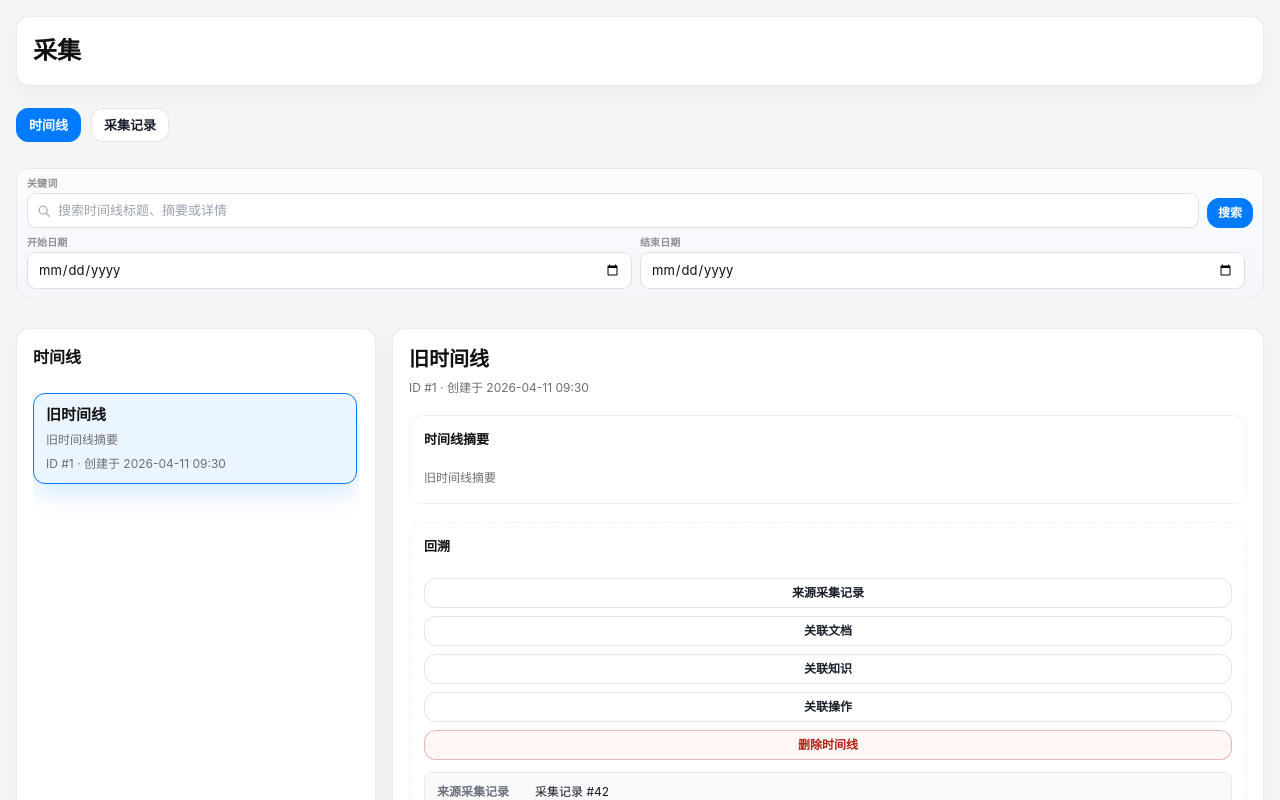
Test: 显式搜索交互 › RepositoryPanel 时间线搜索无结果后不保留旧详情
Check: the 2nd text "旧时间线" is shown, box [46, 405, 106, 424]
Type "不存在" into the field with placeholder "搜索时间线标题、摘要或详情".
click(613, 210); type("不存在")  # box [27, 193, 1199, 228]
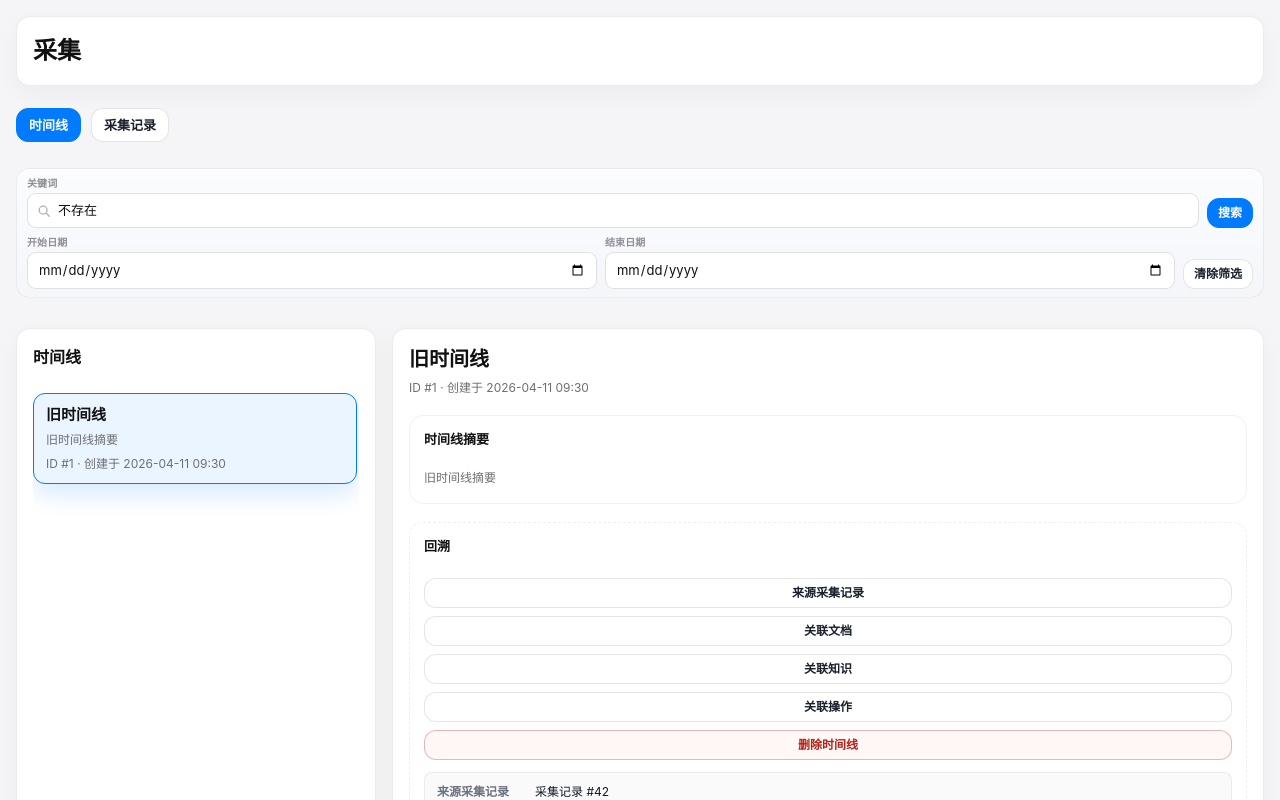
Click the button "搜索".
click(1230, 213)  # box [1207, 198, 1253, 228]
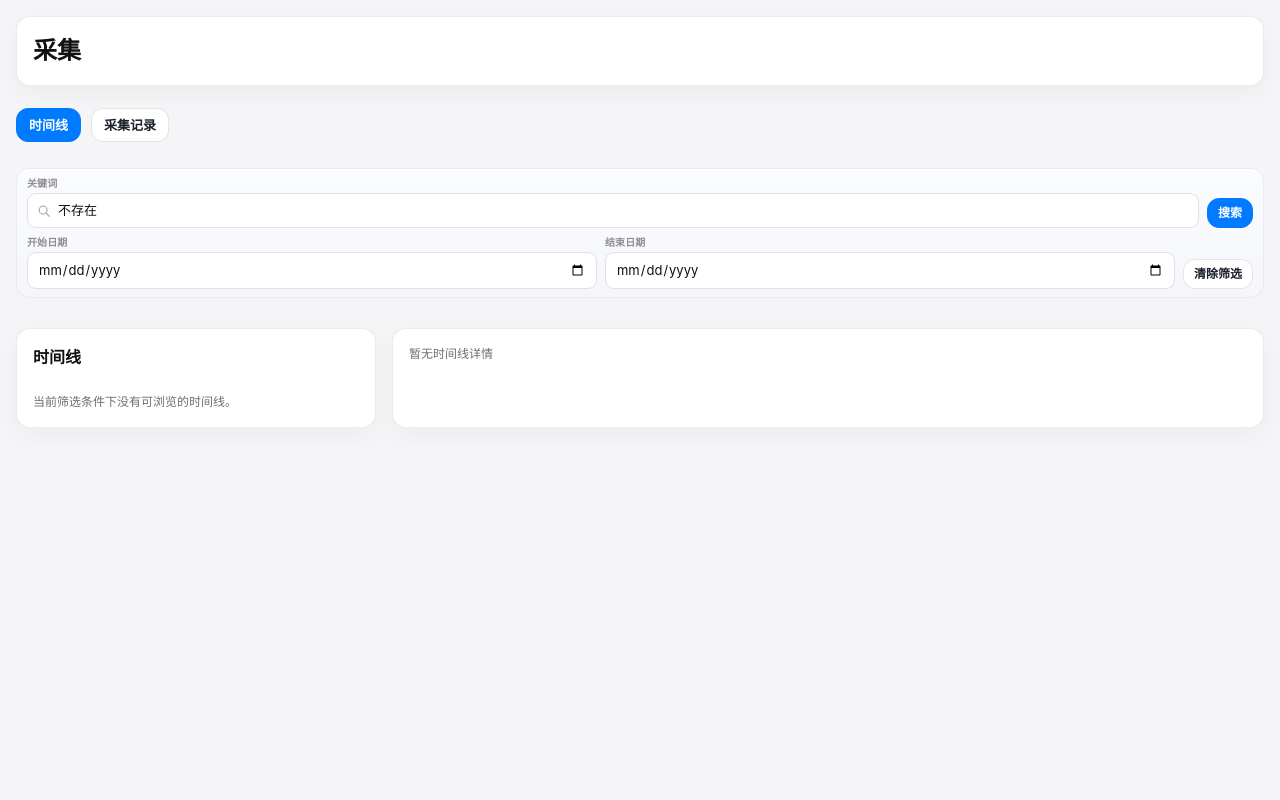
Check: the text "当前筛选条件下没有可浏览的时间线。" is shown, box [33, 394, 237, 409]
Check: the button "旧时间线摘要" is gone
